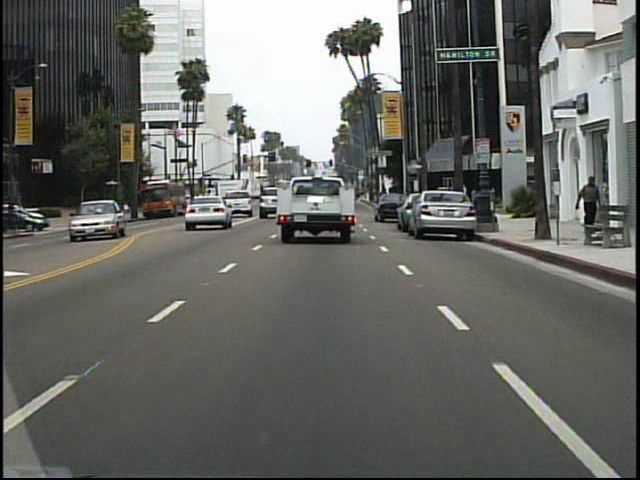person: (575, 175, 604, 236), (102, 194, 116, 223)
